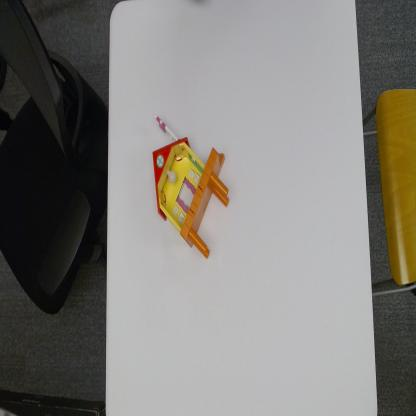House: (150, 110, 233, 263)
